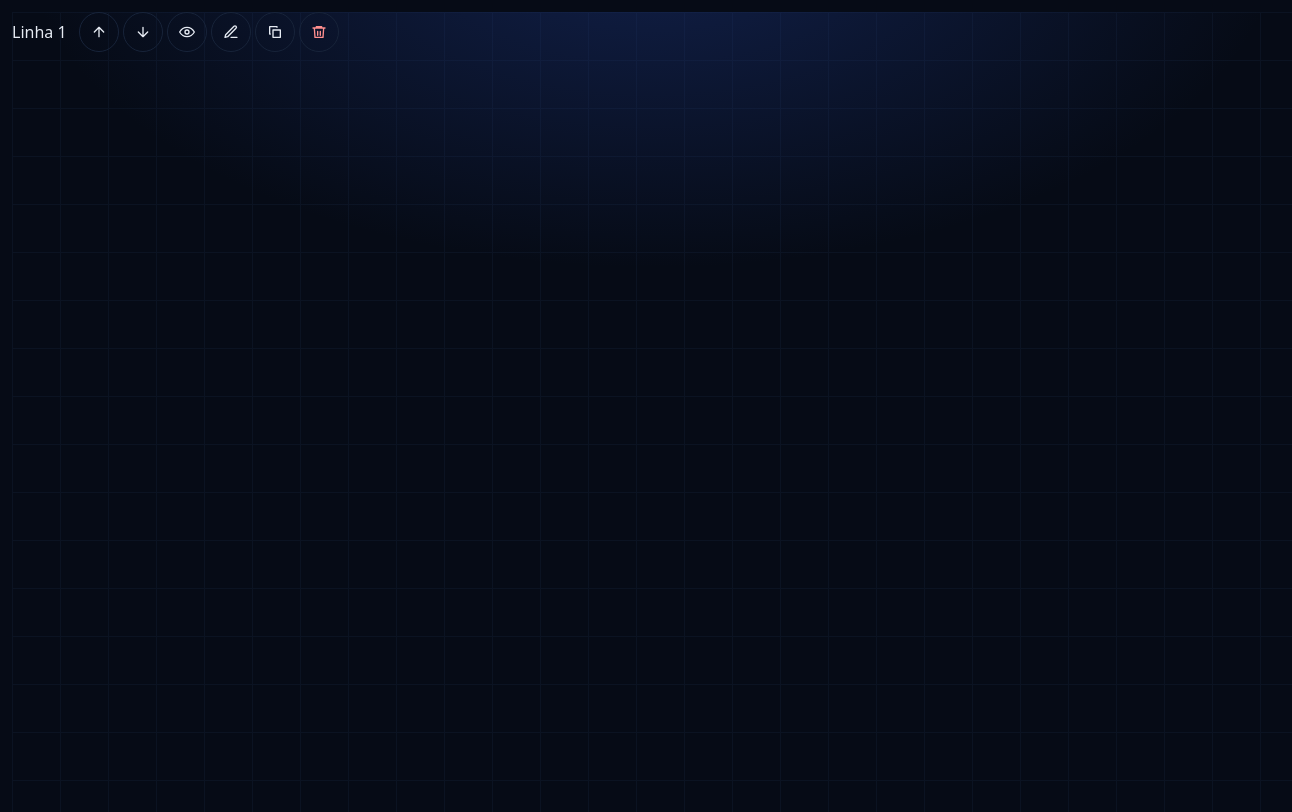
Test: RowActions › excluir some na hora, sem pergunta, e só apaga depois do aviso
Later steps or results of the test are not shown.
Click the button named "Excluir": (319, 32) [299,12,339,52]
Wait 8000 ms
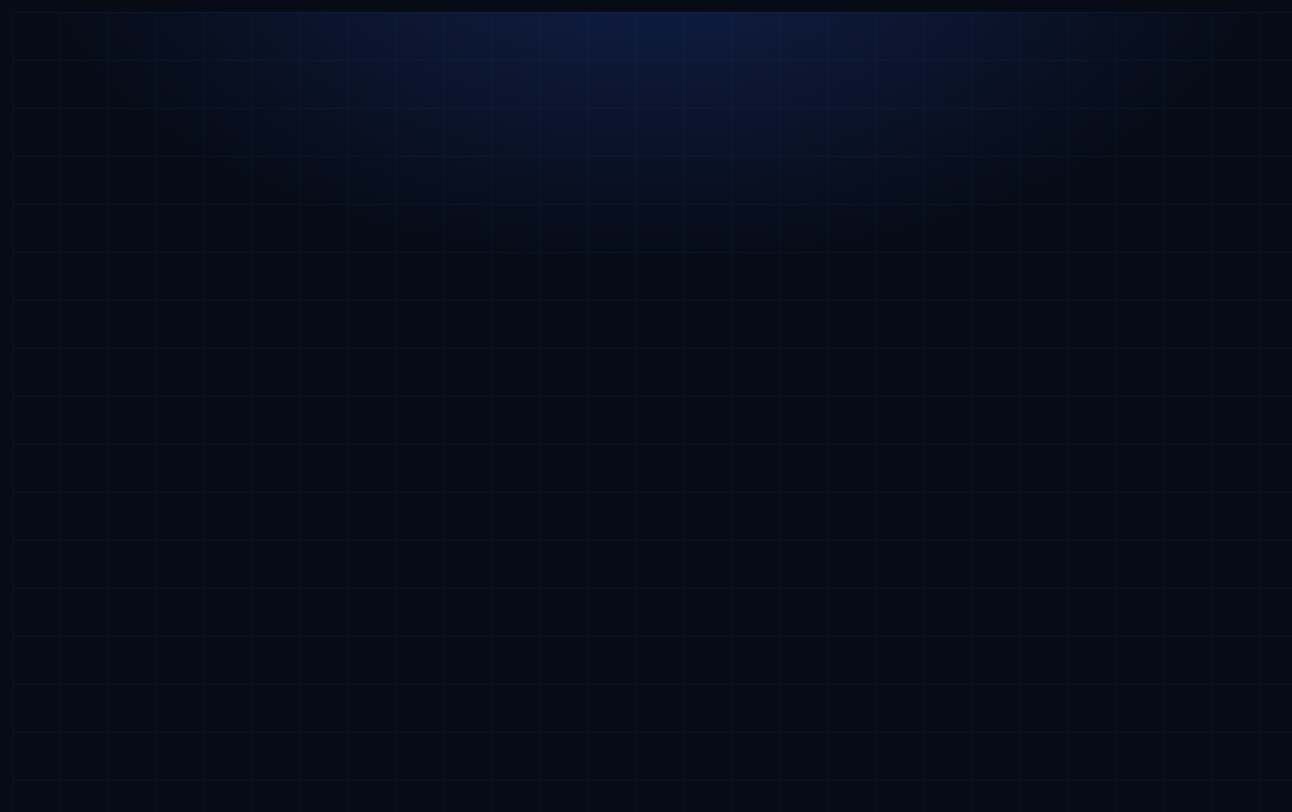
Now the text "Linha 1" is gone
